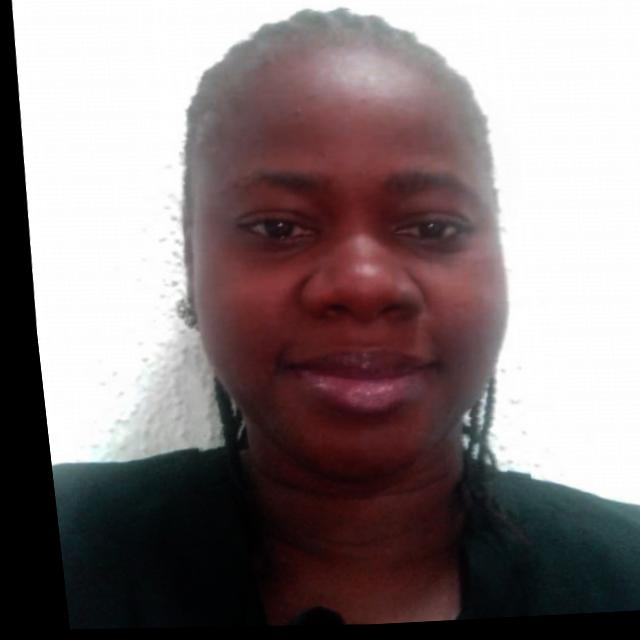happy: (142, 0, 534, 503)
